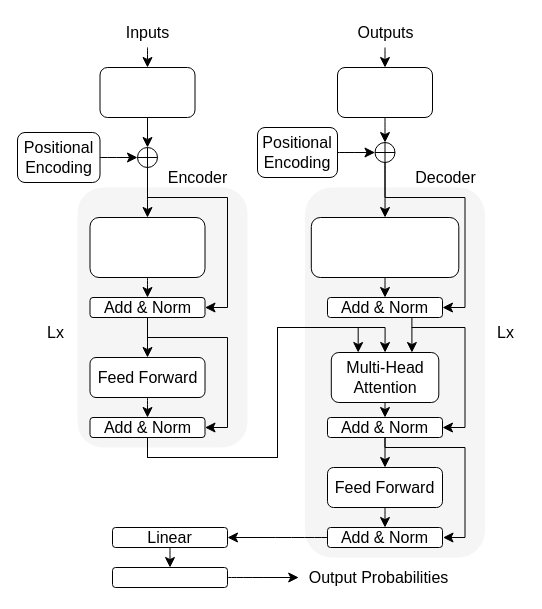
This 542x609 diagram has some shape labels left out. Here are the shapes that lost their labels. From the top down, the box of each, then its label:
(99, 66, 195, 118): Input Embedding
(336, 66, 432, 118): Output Embedding
(89, 216, 205, 278): Multi-Head Self-Attention
(310, 216, 459, 278): Masked Multi-Head Self-Attention
(112, 566, 228, 588): Softmax
